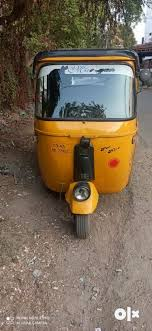auto: (28, 46, 147, 244)
